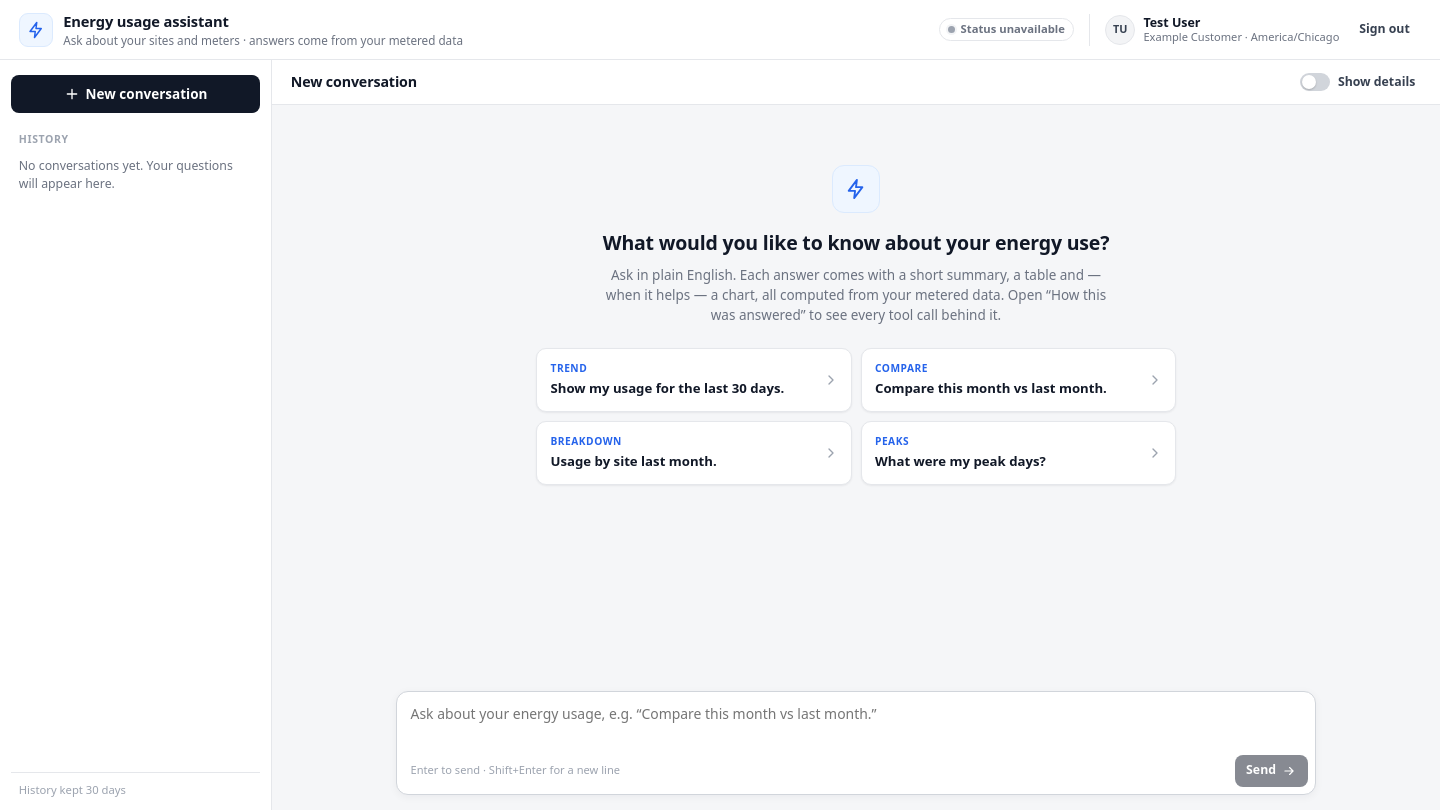
Test case: chat flow (dev auth, mocked fetch) › shows the reference ID of an interrupted stream
Type "Show my usage this month." into the text box labelled "Ask about your energy usage".
click(856, 721); type("Show my usage this month.")  # box x1=397 y1=692 x2=1315 y2=749
Then press Enter
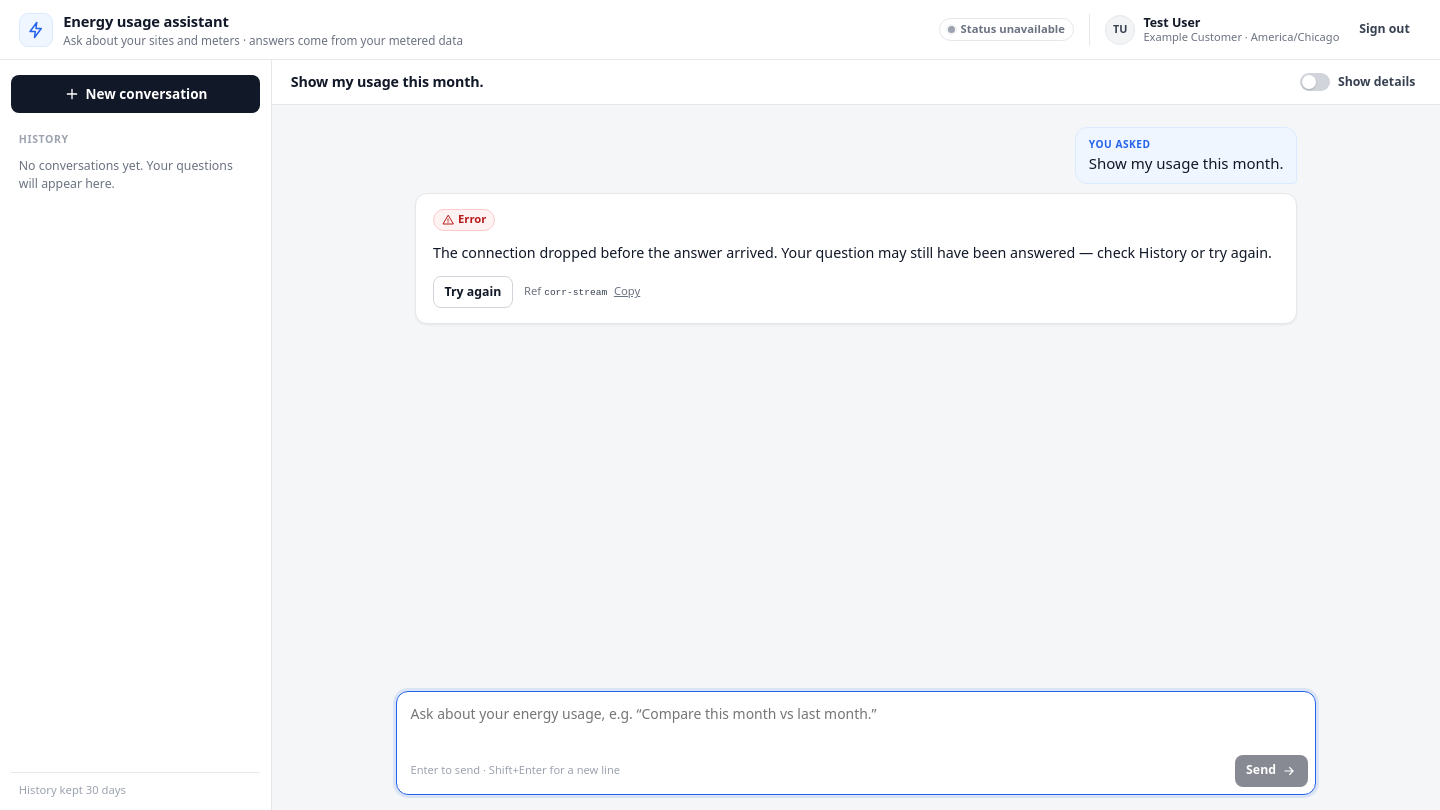
Result: the message shows "corr-stream" at x1=544 y1=287 x2=607 y2=298
